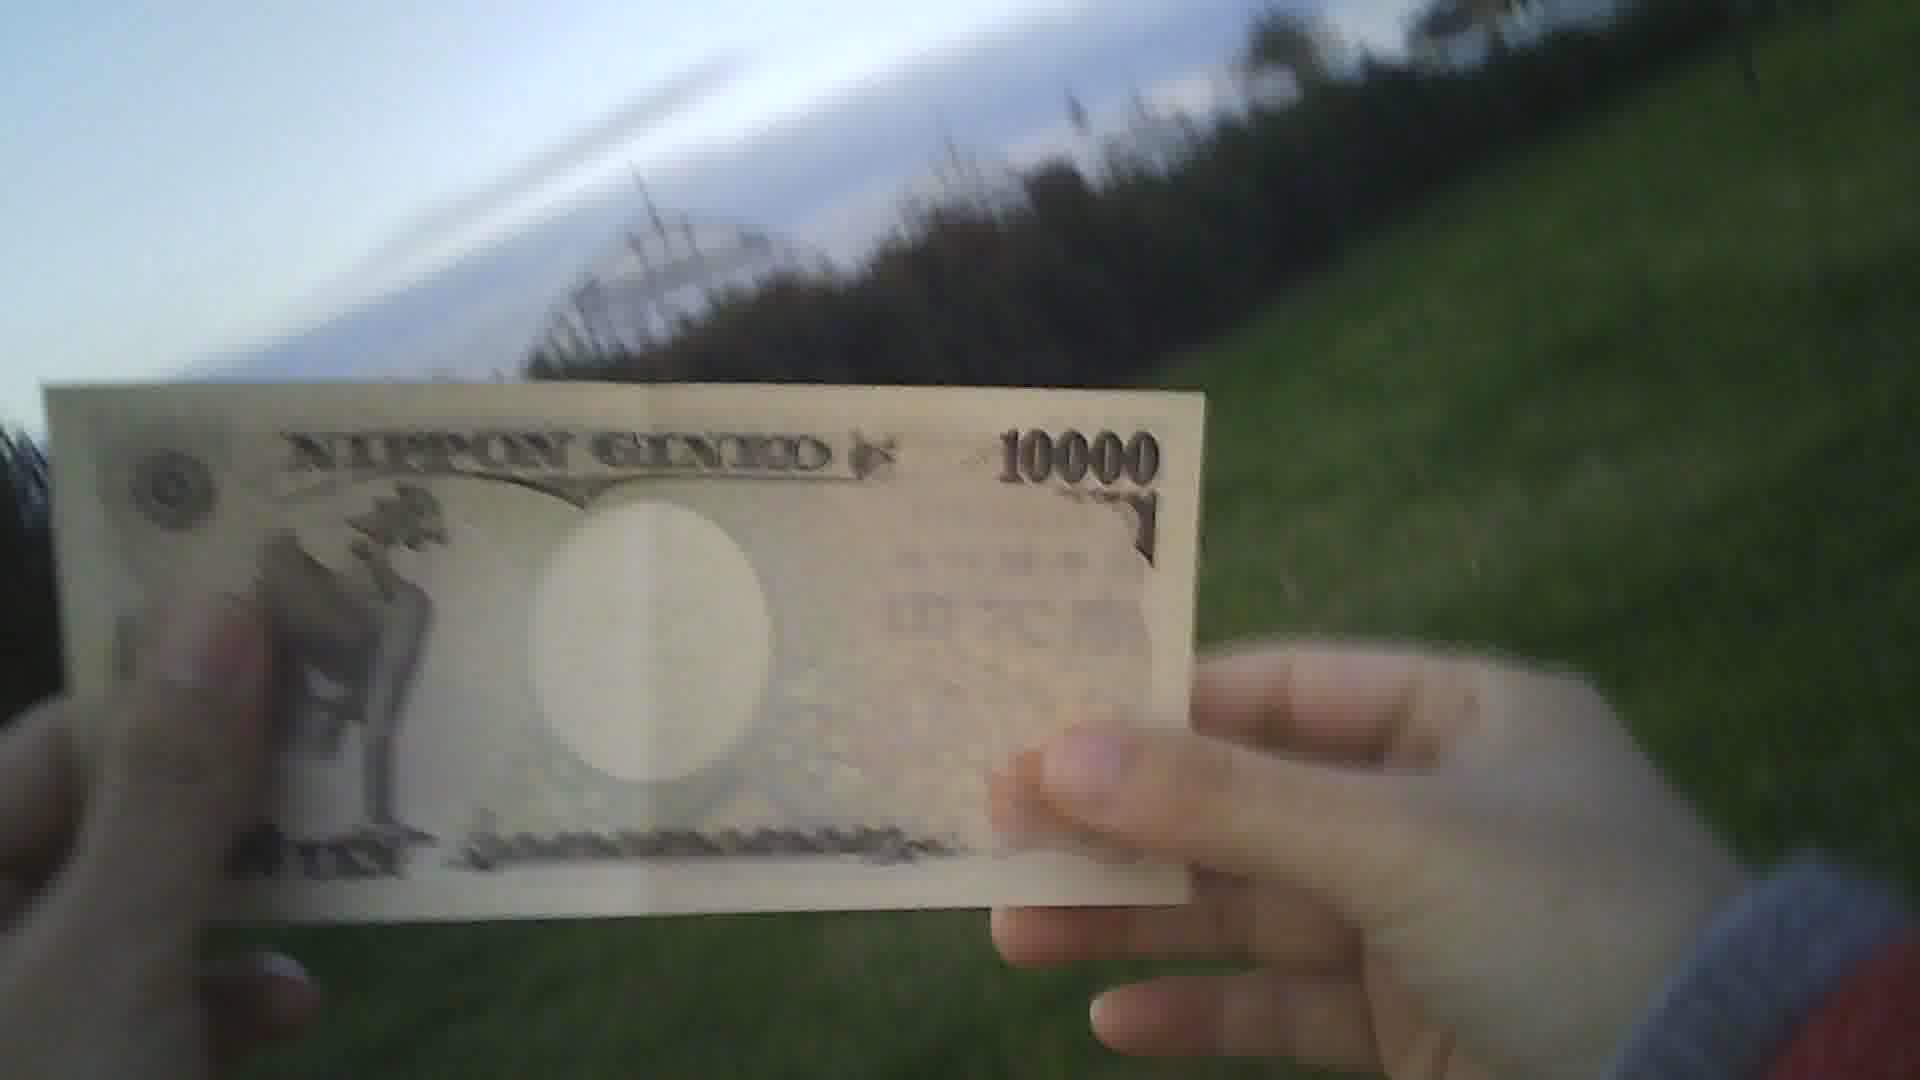10,000 Yen: (49, 353, 1174, 924)
